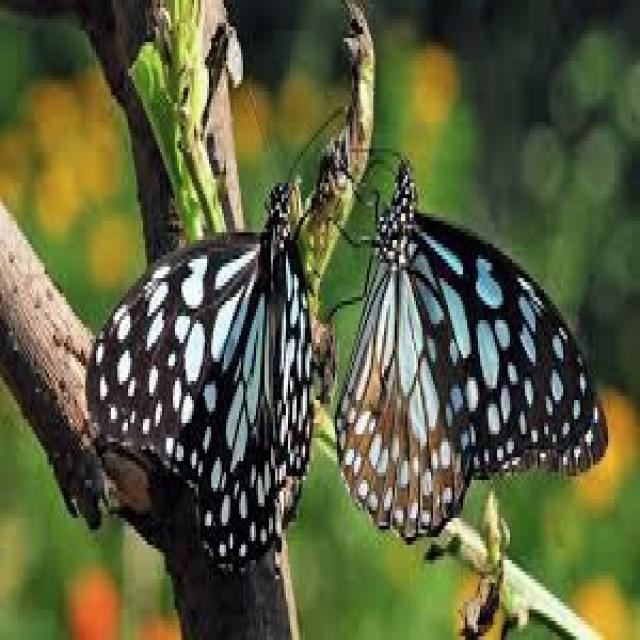butterfly: (335, 164, 606, 537), (87, 183, 311, 571)
